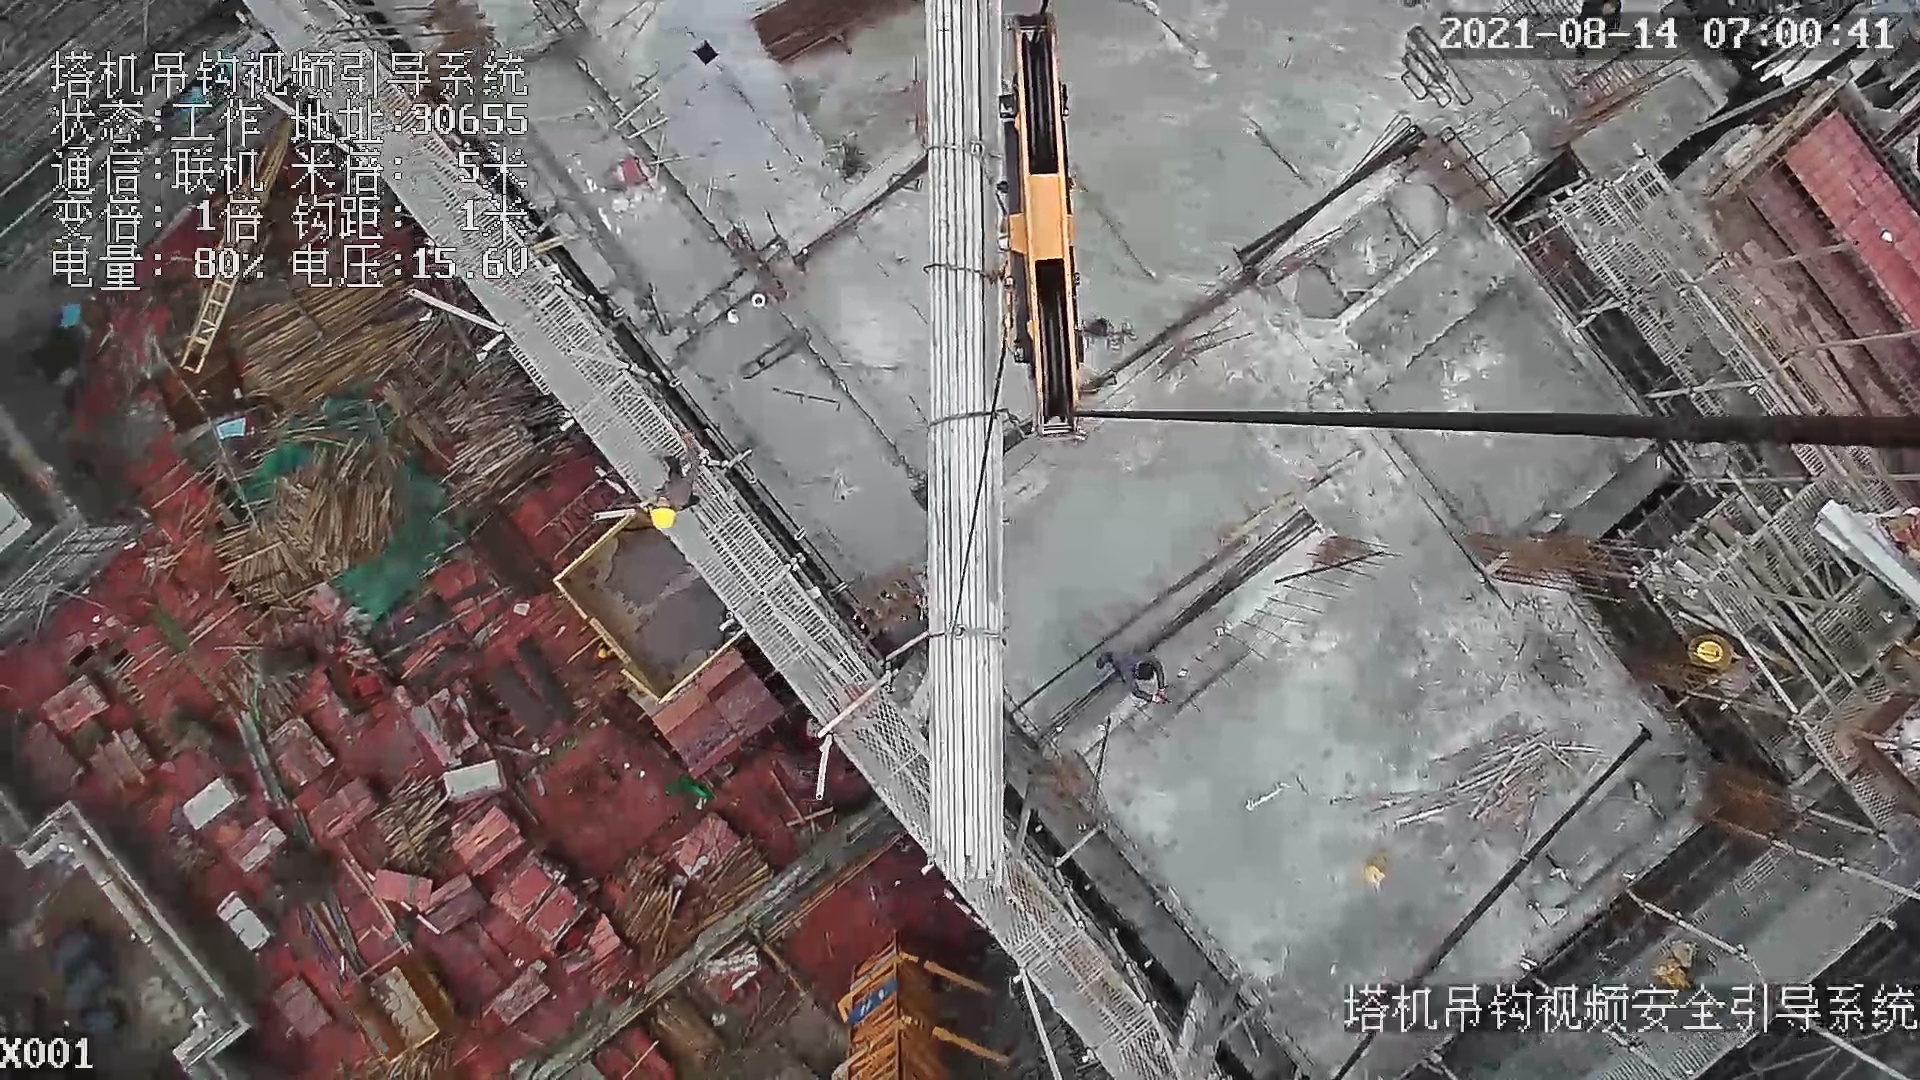helmet: (647, 503, 680, 536)
hook: (970, 6, 1099, 439)
person: (650, 444, 701, 536), (1094, 646, 1177, 701)
